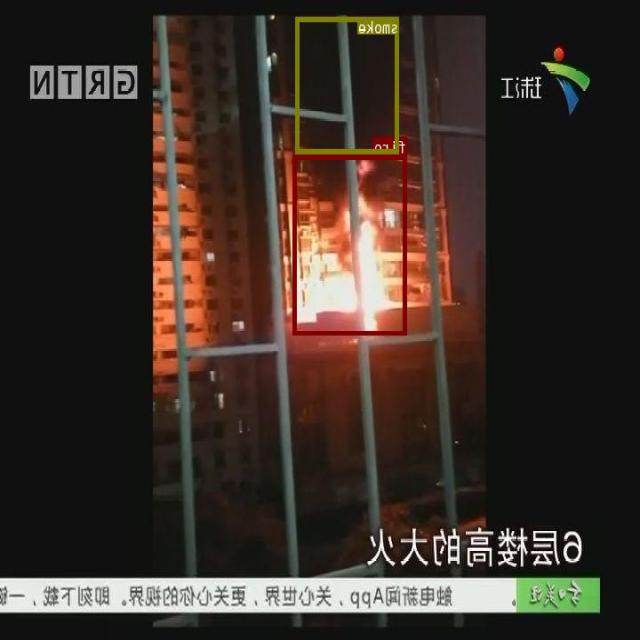fire: (294, 154, 407, 334)
smoke: (297, 16, 400, 152)
